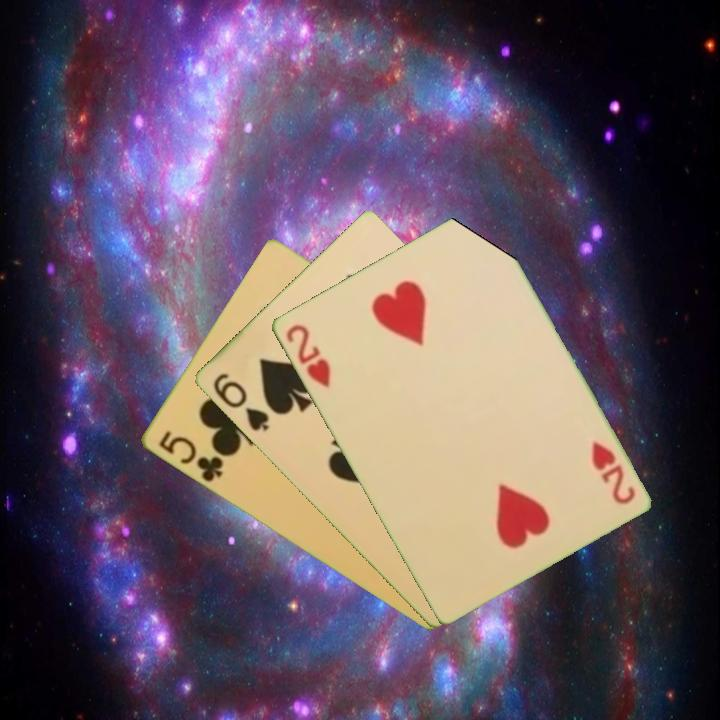2h: (282, 320, 333, 390), (587, 438, 638, 507)
5c: (154, 427, 226, 486)
6s: (209, 369, 272, 434)
